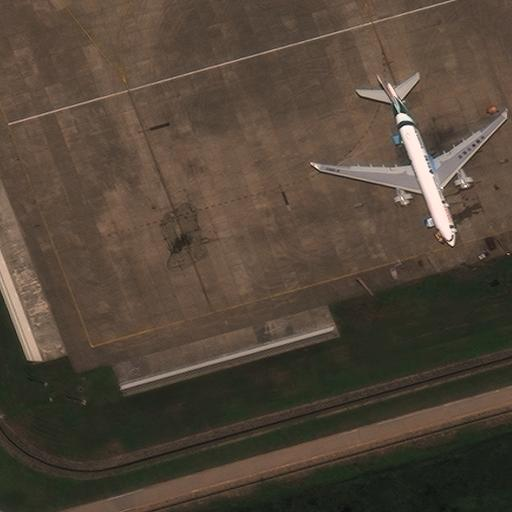Large Civil Transport: (317, 82, 506, 244)
